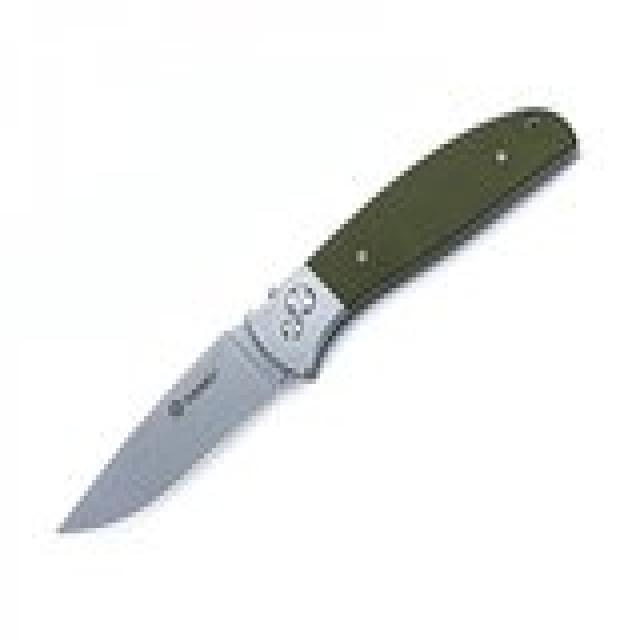Knife: (46, 98, 583, 533)
